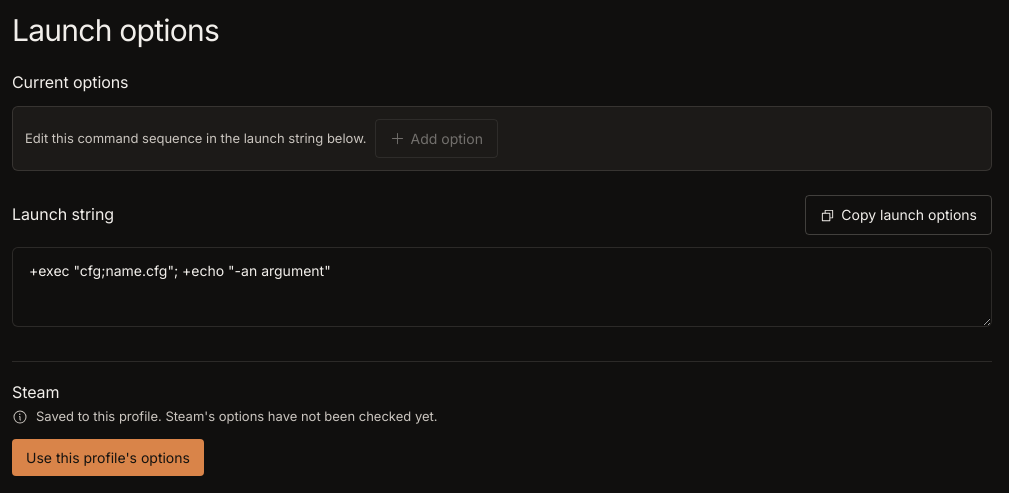
Launch workspace › copies the exact raw sequence and leaves ambiguous commands to raw editing
The image size is (1009, 493).
Expected: the button with test id "launch-add-open" is disabled, x1=375 y1=119 x2=498 y2=158
Click the button with test id "launch-copy".
click(899, 215)  # box x1=805 y1=195 x2=992 y2=235
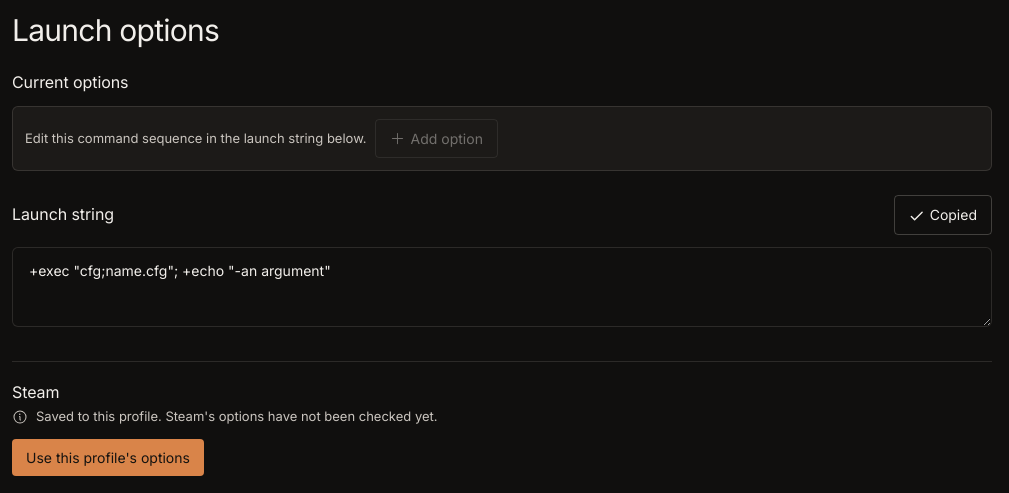
Now the button with test id "launch-copy" reads "Copied", box x1=894 y1=195 x2=992 y2=235
